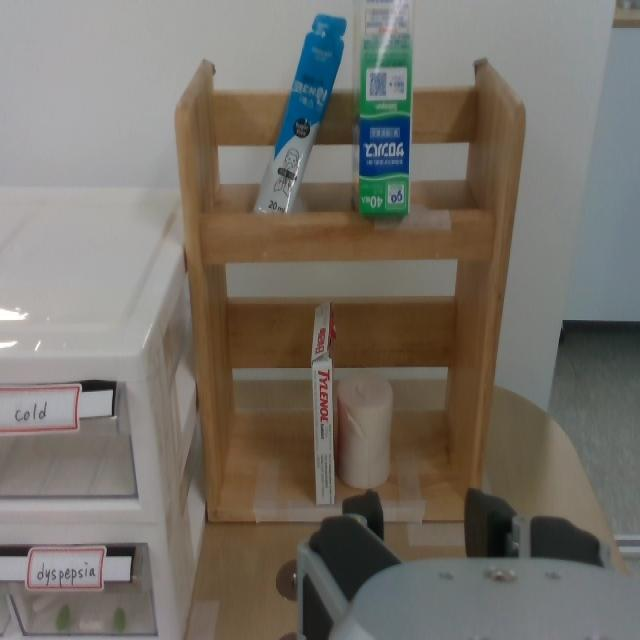bandage: (342, 373, 394, 490)
codaewon_syrup: (247, 12, 342, 225)
sore_patch: (358, 0, 414, 216)
tylenol: (308, 296, 341, 507)
